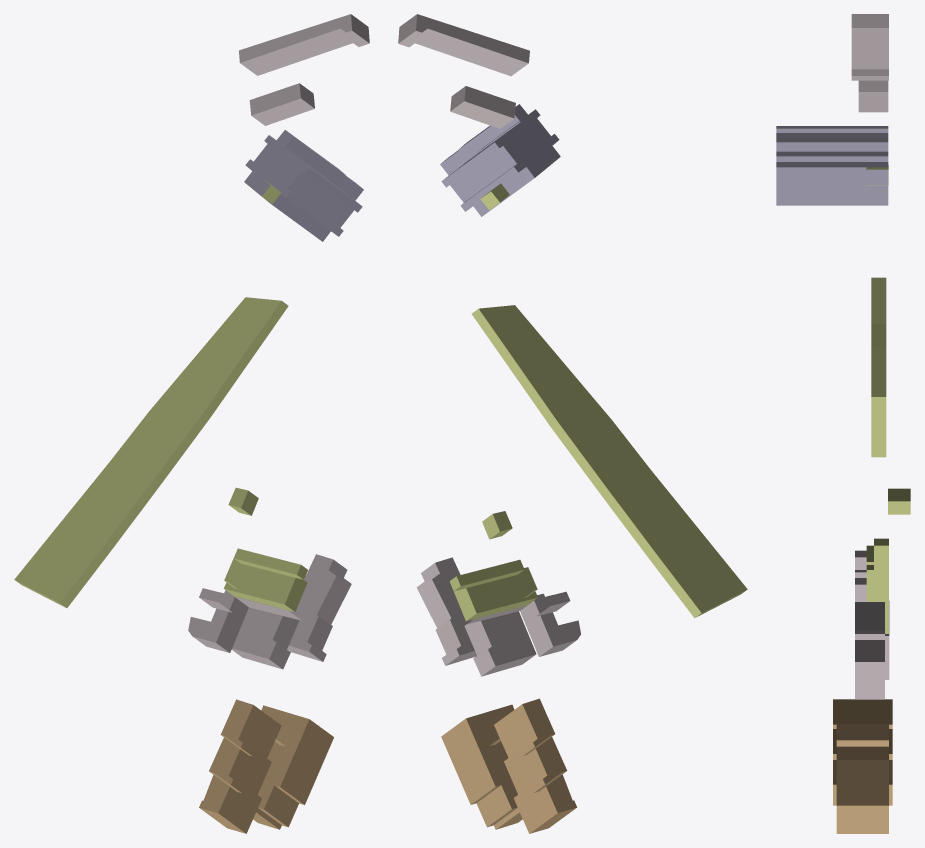
3 views of the same model, side by side, from view 1: azimuth 30°, elevation 25°; view 2: azimuth 150°, elevation 25°; view 3: azimuth 270°, elevation 25° (orthographic). The views are drawn at different scales.
Parts seen in each view (by area): view 1: 0_0_1_3_1; view 2: 0_0_1_3_1; view 3: 0_0_1_3_1.
Boxes of the visible parts, x1,y1,x2,y2 form: 0_0_1_3_1: (14, 14, 369, 833); 0_0_1_3_1: (398, 14, 747, 833); 0_0_1_3_1: (776, 14, 910, 833).
Size of the model in its own units: 166 by 362 by 53.9.
